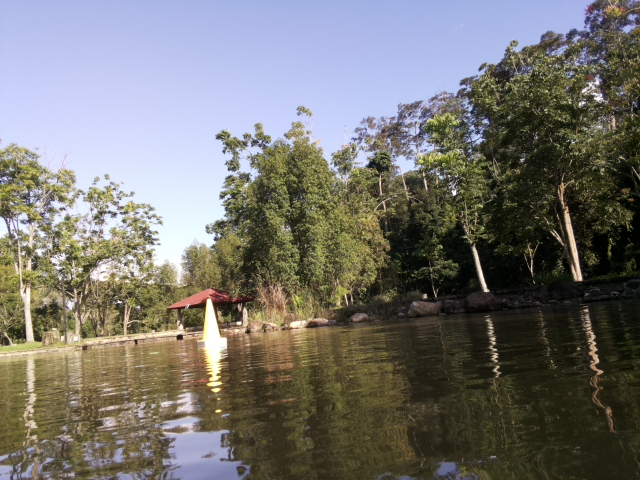checkpoint: (196, 298, 228, 347)
